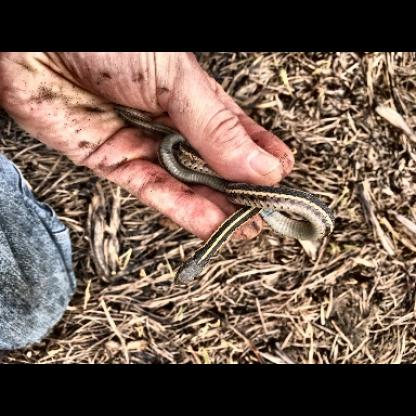Snake: (150, 129, 336, 292)
